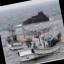fishing boat: (9, 11, 64, 64), (1, 12, 24, 51)
